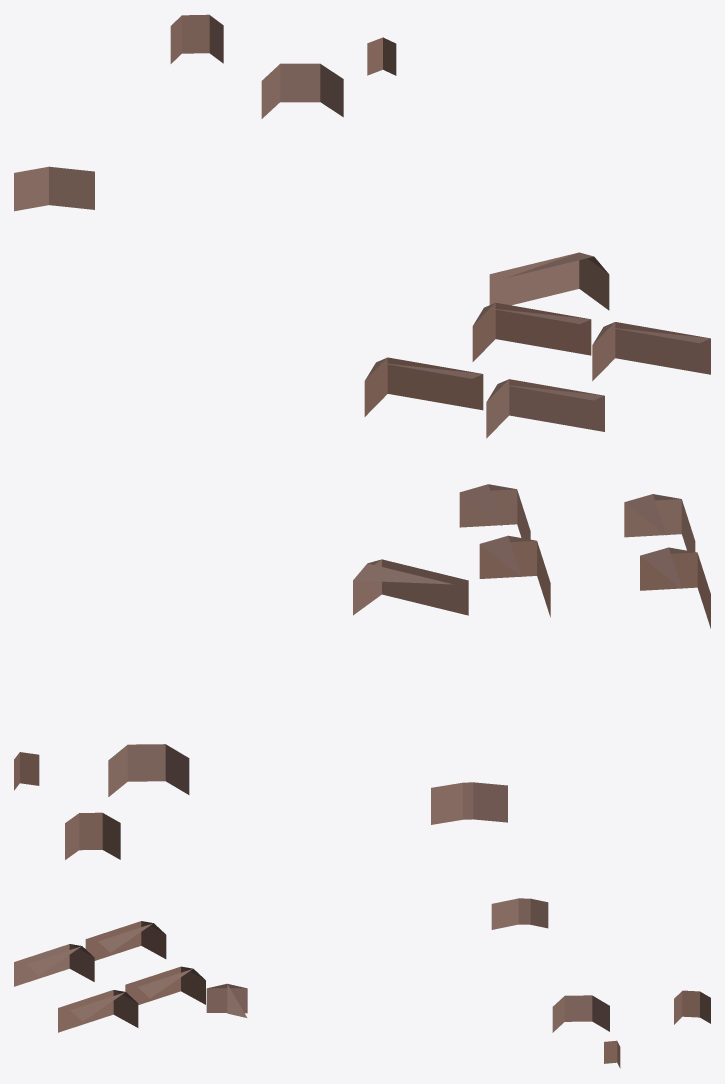
The model's file is c_1641_17833_buildings_residential.glb.
3 renders of one model, top to bottom at view 1: azimuth 30°, elevation 25°; view 2: azimuth 150°, elevation 25°; view 3: azimuth 270°, elevation 25°, orthographic. The views are drawn at different scales.
Parts seen in each view (by area): view 1: geometry_0; view 2: geometry_0; view 3: geometry_0.
Boxes of the visible parts, x1=… form: geometry_0: x1=14, y1=14, x2=710, y2=438; geometry_0: x1=14, y1=484, x2=710, y2=859; geometry_0: x1=14, y1=898, x2=710, y2=1068.
Bounding box in the file's own units: 113 × 10.68 × 229.
